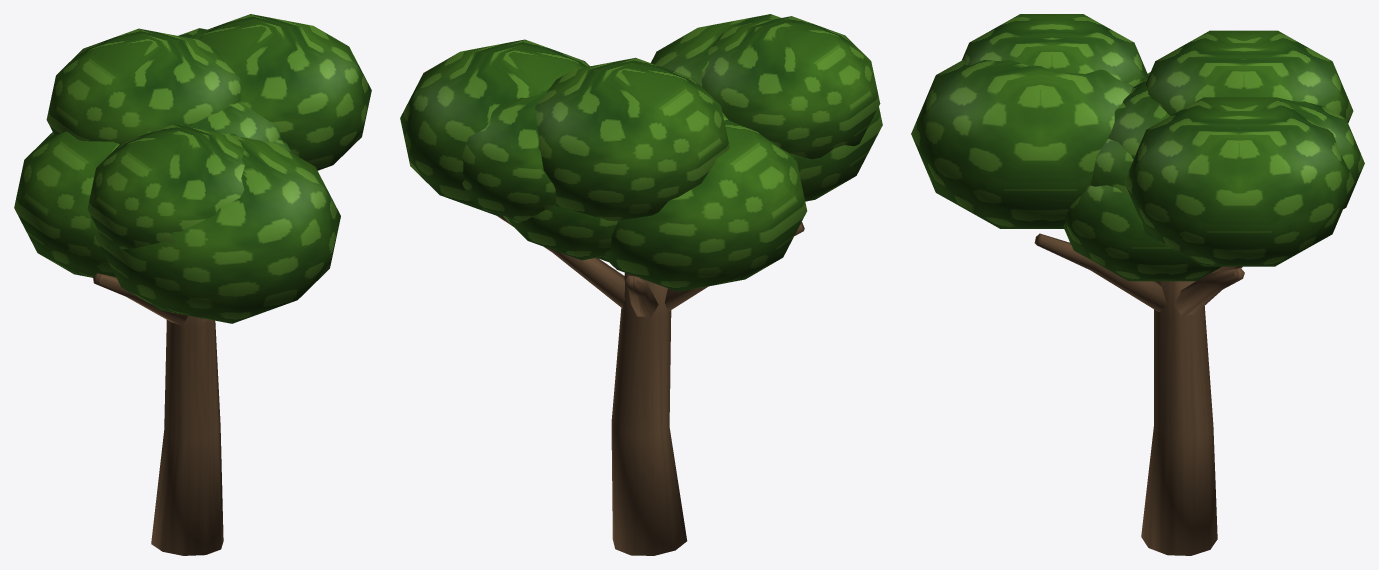
File: aa_shade_tree.fbx
The picture shows the model from 3 angles, left to right: view 1: azimuth 30°, elevation 25°; view 2: azimuth 150°, elevation 25°; view 3: azimuth 270°, elevation 25°; orthographic projection. The views are drawn at different scales.
Visible parts, largest first — view 1: Asset_ShadeTree; view 2: Asset_ShadeTree; view 3: Asset_ShadeTree.
Boxes of the visible parts, x1,y1,x2,y2 form: Asset_ShadeTree: (14, 14, 371, 555); Asset_ShadeTree: (400, 14, 882, 555); Asset_ShadeTree: (911, 14, 1364, 555).
Bounding box in the file's own units: 9.61 × 12.92 × 10.67.
1 material, 1 textured.
